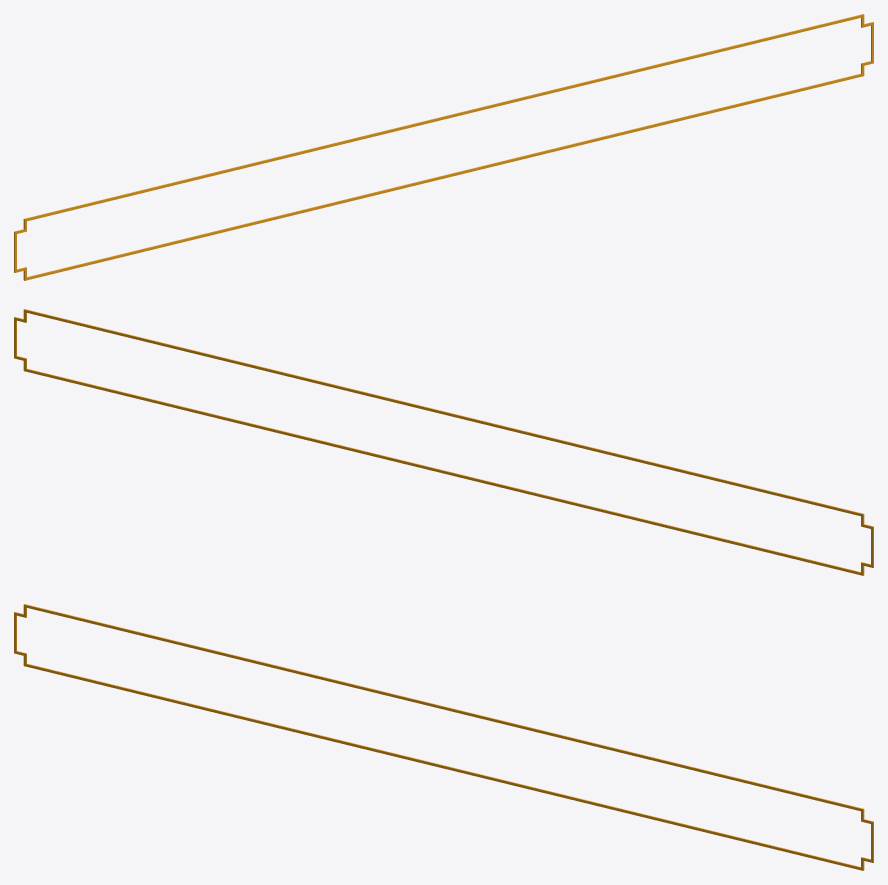
File: dengkuang4.FBX
The picture shows the model from 3 angles, top to bottom: view 1: azimuth 30°, elevation 25°; view 2: azimuth 150°, elevation 25°; view 3: azimuth 330°, elevation 25°; orthographic projection.
Visible parts, largest first — view 1: fangkuang; view 2: fangkuang; view 3: fangkuang.
Part boxes in pixels (x1=…): fangkuang: x1=14, y1=14, x2=873, y2=280; fangkuang: x1=14, y1=309, x2=873, y2=575; fangkuang: x1=14, y1=604, x2=873, y2=870.
Bounding box in the file's own units: 3504 × 240 × 5.
